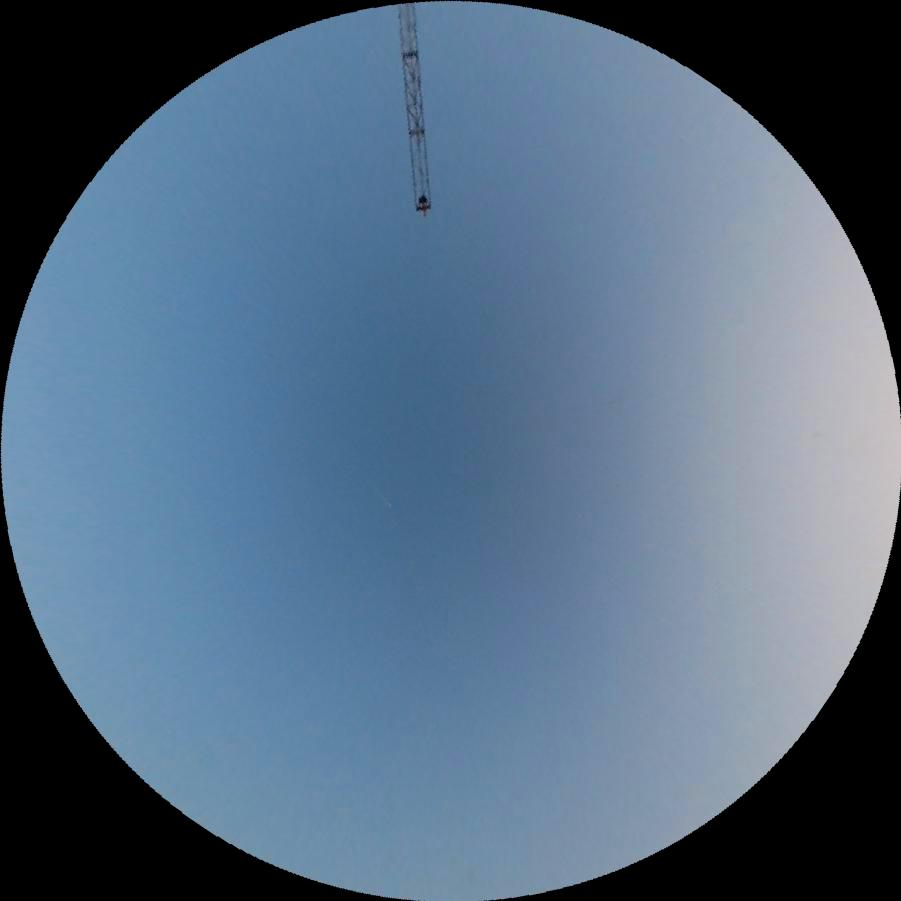contrail young: (363, 477, 392, 507)
